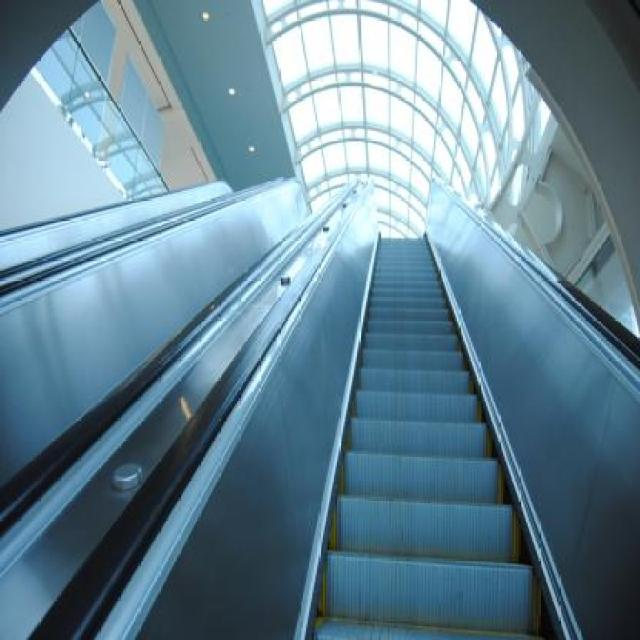stair: (300, 232, 549, 640)
